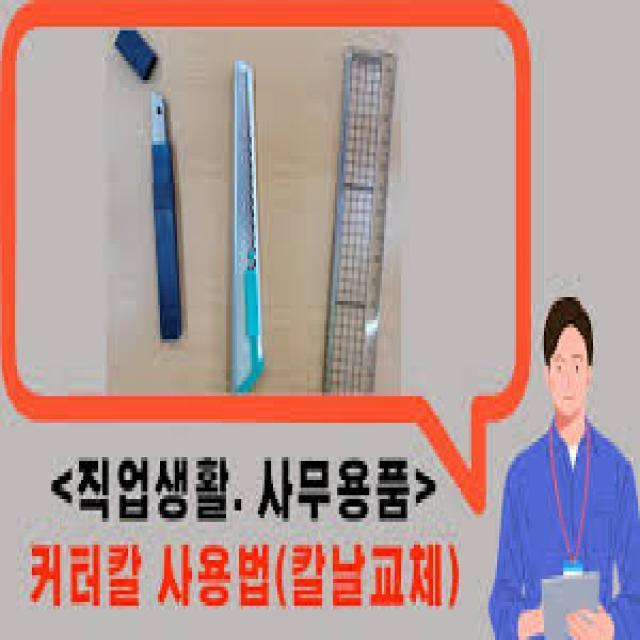cutter: (220, 55, 274, 413)
